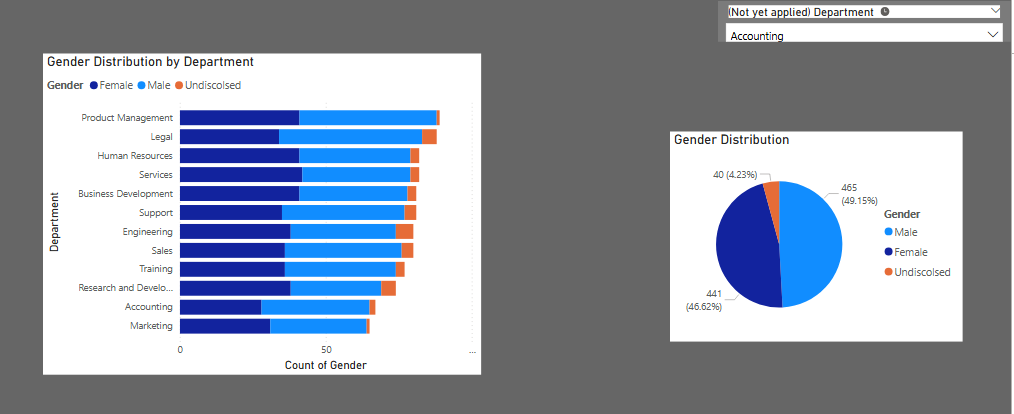

Layout of this report page (visuals, bound fields, positions):
{"tool":"powerbi","page":{"name":"Page 1","canvas":[1280,720],"ordinal":0},"visuals":[{"type":"barChart","title":"Gender Distribution by Department","fields":{"Category":["Palmoria Group emp-data.Department"],"Y":["CountNonNull(Palmoria Group emp-data.Gender)"],"Series":["Palmoria Group emp-data.Gender"]},"box":[60.5,156.9,551.8,404.4],"z":0},{"type":"slicer","fields":{"Values":["Palmoria Group emp-data.Department"]},"box":[910.9,90.7,368.5,51],"z":1000},{"type":"actionButton","box":[0,0,200,50],"z":2000},{"type":"actionButton","box":[0,0,200,50],"z":3000},{"type":"pieChart","title":"Gender Distribution","fields":{"Category":["Palmoria Group emp-data.Gender"],"Y":["CountNonNull(Palmoria Group emp-data.Gender)"]},"box":[850.4,255.1,368.5,264.6],"z":4000},{"type":"actionButton","box":[0,0,200,50],"z":5000}]}

Visuals, with their boxes on the page's 1280x720 design canvas (x1, y1, x2, y2). These are canvas units, not pixel positions in the 1014x414 screenshot, which may show the page scaled, cropped or inside an application window:
"Gender Distribution by Department" barChart: x1=60 y1=157 x2=612 y2=561
slicer - Palmoria Group emp-data.Department: x1=911 y1=91 x2=1279 y2=142
actionButton: x1=0 y1=0 x2=200 y2=50
actionButton: x1=0 y1=0 x2=200 y2=50
"Gender Distribution" pieChart: x1=850 y1=255 x2=1219 y2=520
actionButton: x1=0 y1=0 x2=200 y2=50
